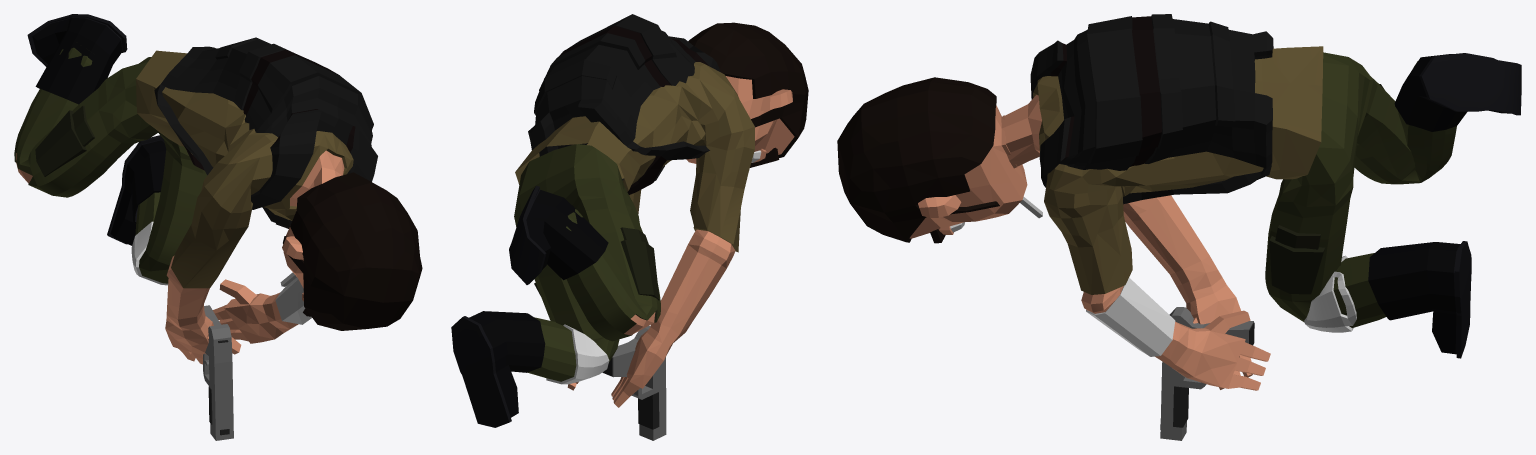
The model's file is frame_0051.obj.
3 views of the same model, side by side, from view 1: azimuth 30°, elevation 25°; view 2: azimuth 150°, elevation 25°; view 3: azimuth 270°, elevation 25° (orthographic). The views are drawn at different scales.
Visible parts, largest first — view 1: Body, Gun; view 2: Body, Gun; view 3: Body, Gun.
Boxes of the visible parts, x1,y1,x2,y2 form: Body: (14, 14, 422, 364); Gun: (203, 305, 233, 440); Body: (451, 14, 808, 427); Gun: (602, 326, 666, 440); Body: (837, 14, 1521, 390); Gun: (1160, 307, 1254, 440).
Bounding box in the file's own units: 1.44 × 2.4 × 3.4.
